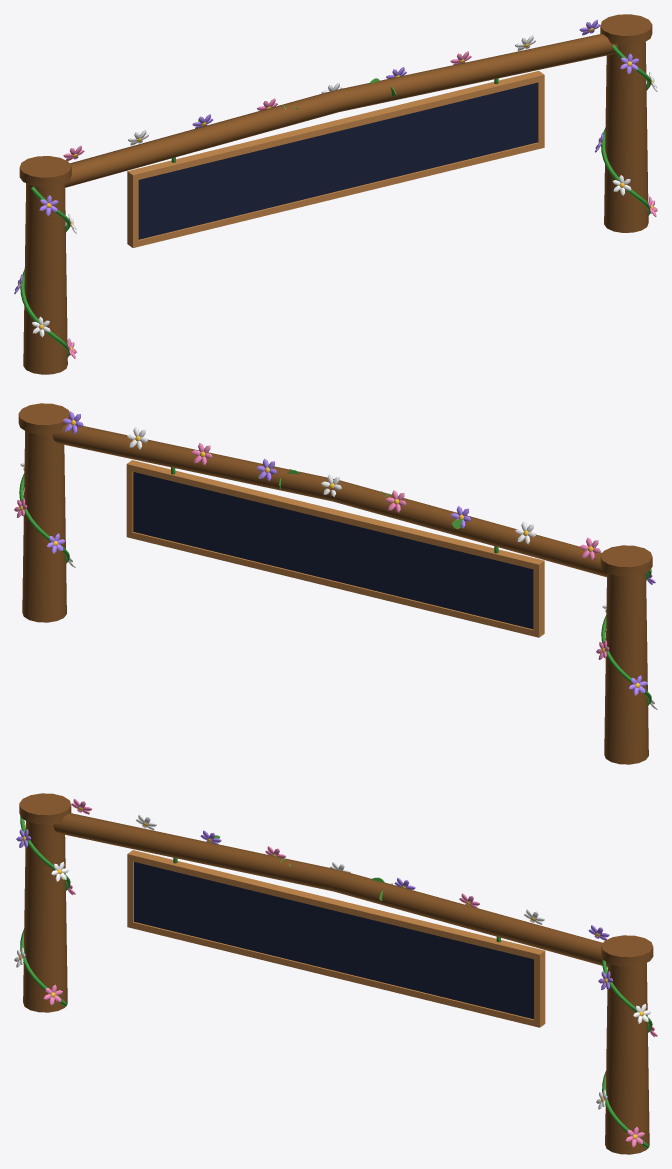
Rendered from ZoneArch_Meadow.glb.
The picture shows the model from 3 angles, top to bottom: view 1: azimuth 30°, elevation 25°; view 2: azimuth 150°, elevation 25°; view 3: azimuth 330°, elevation 25°; orthographic projection.
Visible parts, largest first — view 1: Posts, SignPanel, SignFrame, Vines, PetalsPurple, PetalsWhite, PetalsPink; view 2: Posts, SignPanel, SignFrame, PetalsPurple, PetalsPink, PetalsWhite, Vines; view 3: Posts, SignPanel, SignFrame, Vines, PetalsWhite, PetalsPink, PetalsPurple.
Part boxes in pixels (<box>): Posts: <box>19,14,652,374</box>; SignPanel: <box>138,82,537,239</box>; SignFrame: <box>127,71,544,247</box>; Vines: <box>20,45,651,357</box>; PetalsPurple: <box>14,19,638,293</box>; PetalsWhite: <box>32,35,657,337</box>; PetalsPink: <box>63,51,657,358</box>; Posts: <box>18,403,652,764</box>; SignPanel: <box>133,472,533,629</box>; SignFrame: <box>126,460,544,637</box>; PetalsPurple: <box>47,411,655,695</box>; PetalsPink: <box>14,443,609,659</box>; PetalsWhite: <box>20,427,657,709</box>; Vines: <box>19,467,651,705</box>; Posts: <box>19,793,653,1154</box>; SignPanel: <box>134,862,533,1019</box>; SignFrame: <box>127,850,545,1027</box>; Vines: <box>20,816,652,1148</box>; PetalsWhite: <box>14,814,651,1109</box>; PetalsPink: <box>43,799,657,1147</box>; PetalsPurple: <box>16,829,612,989</box>.
Size of the model in its own units: 97.95 by 31 by 8.27.
